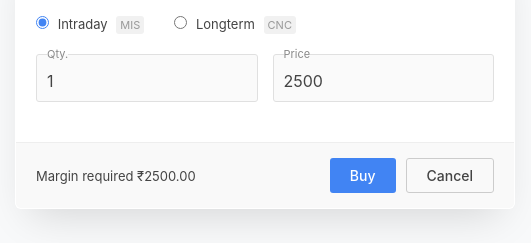
Test: BuyActionWindow component › displays error when price is invalid
The image size is (531, 243).
Replace the text in the number field below "Price" with "-5" at (383, 81), box [284,66,483,96]
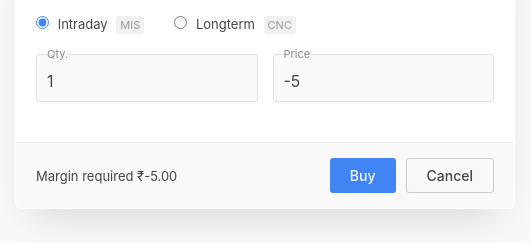
Click the button "Buy" at (363, 176), box [330,158,396,193]
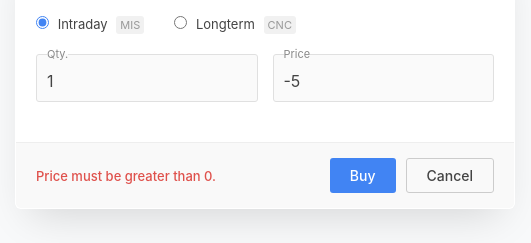
Result: the text "Price must be greater than 0." is shown at [36,168,216,184]
